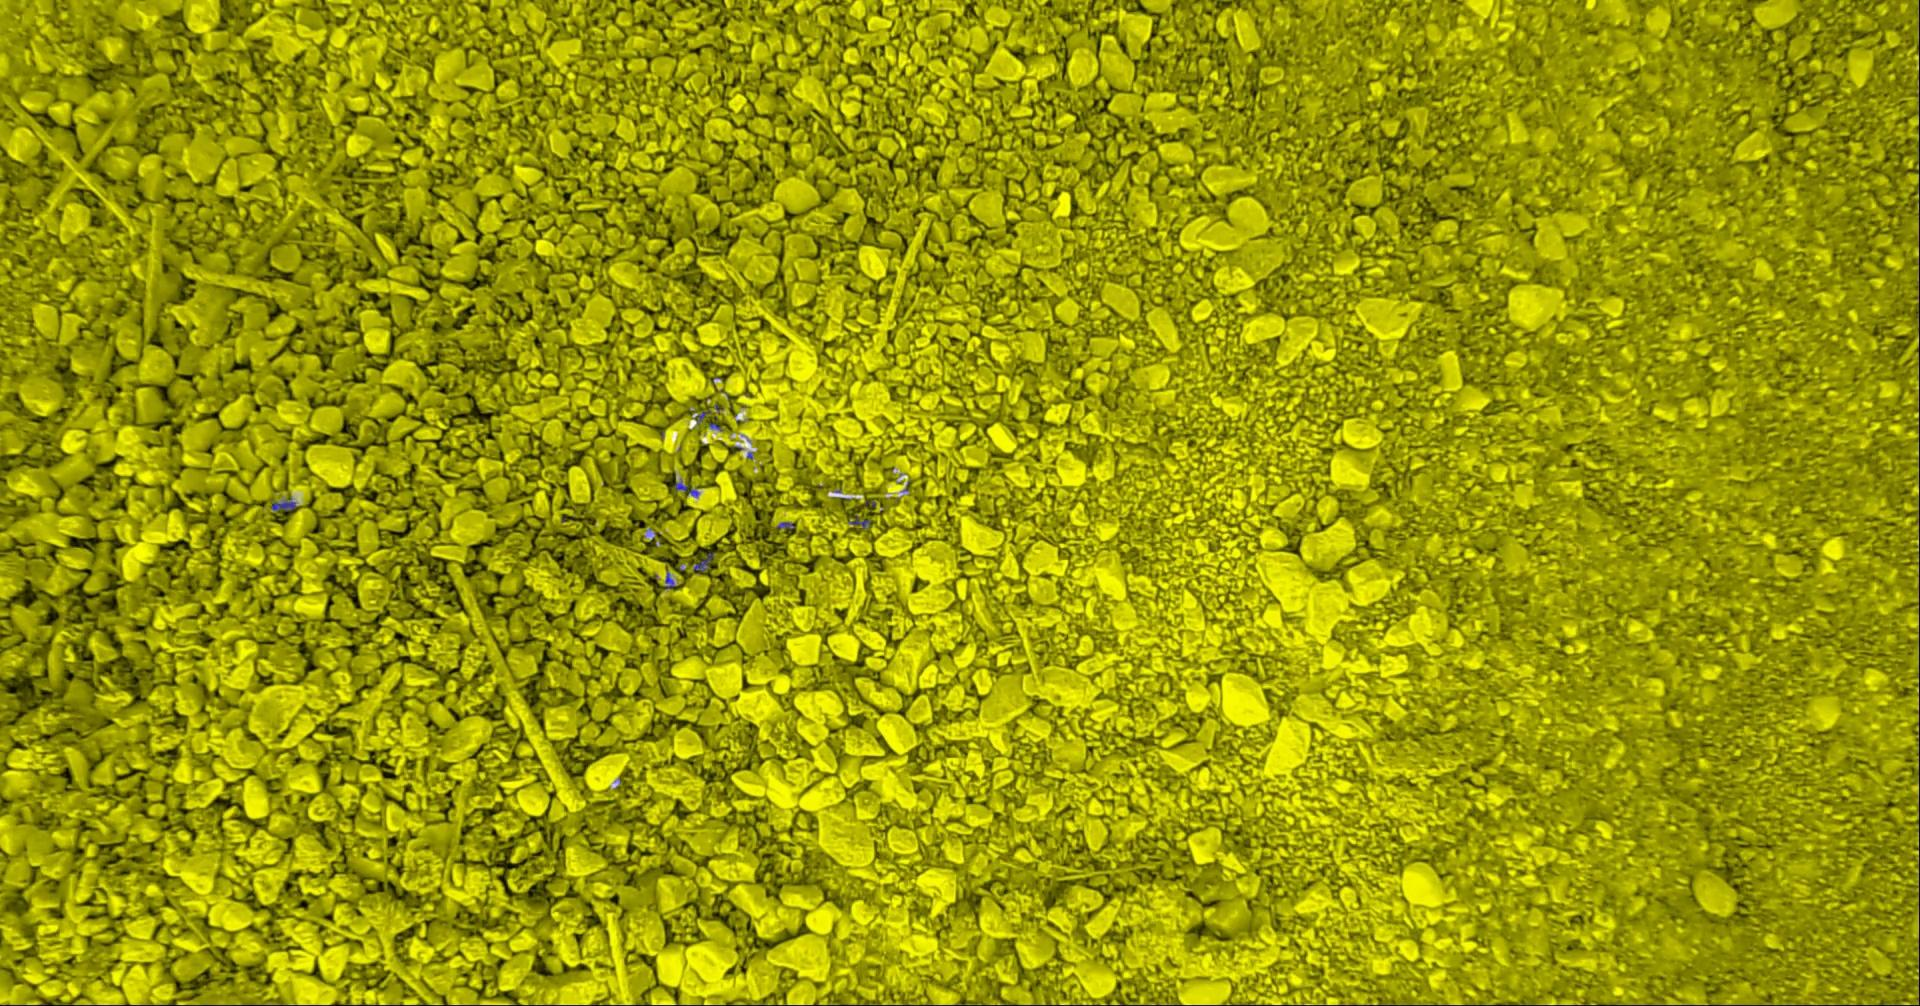ant: (693, 553, 712, 573), (673, 481, 698, 495), (270, 498, 295, 511), (848, 514, 869, 528)
